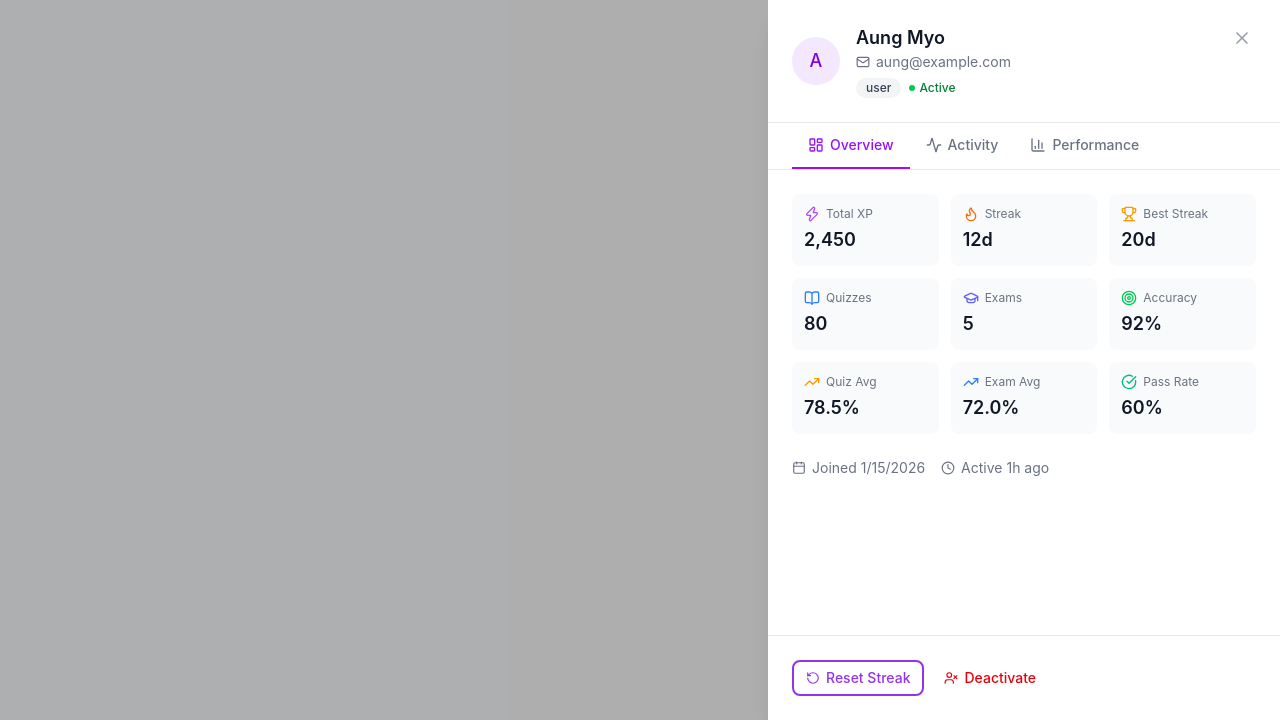
Test: UserDrawer › switches to activity tab
Click the button "Activity": x=962, y=146 x1=910 y1=123 x2=1014 y2=169
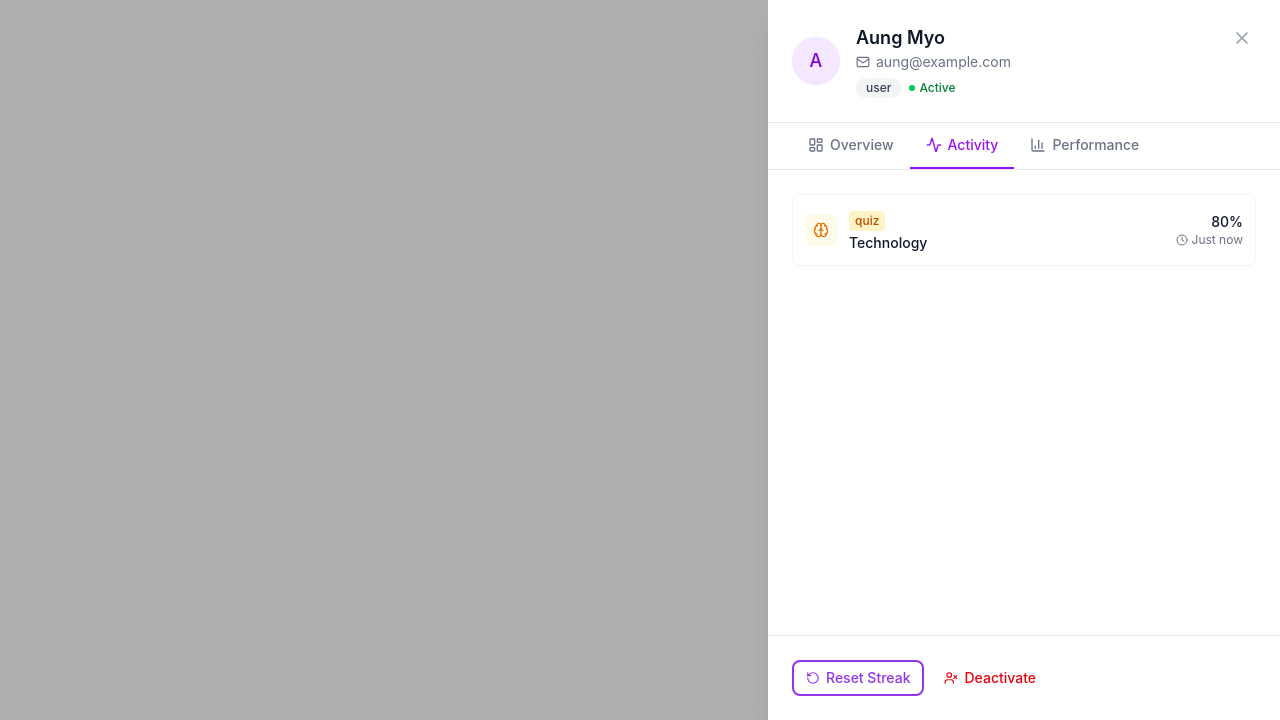
expect the text "Technology" is shown: met, box x1=849 y1=233 x2=927 y2=253
